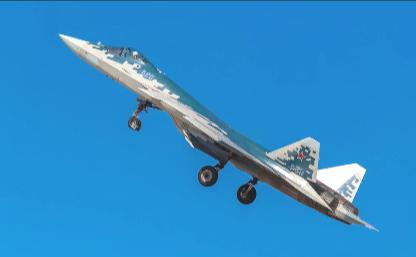SR71: (58, 32, 380, 231)
